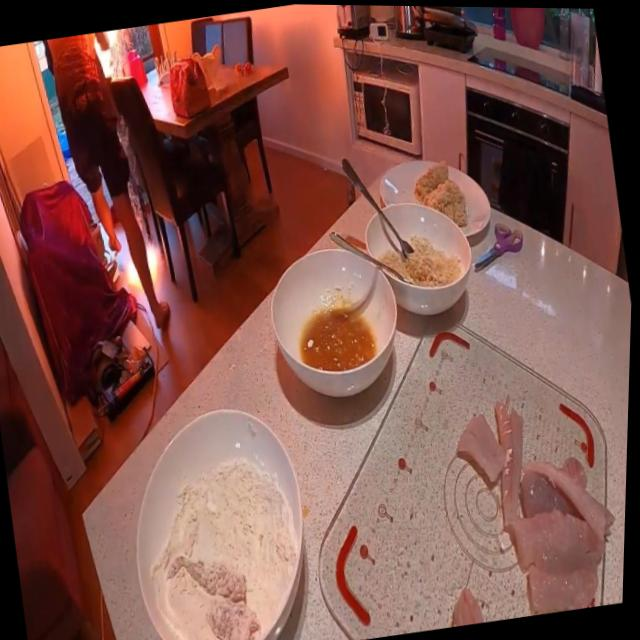fire: (91, 29, 124, 76)
